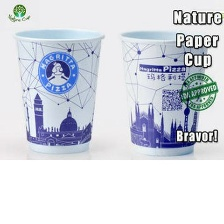paper_cup: (114, 25, 214, 159), (8, 24, 108, 157)
